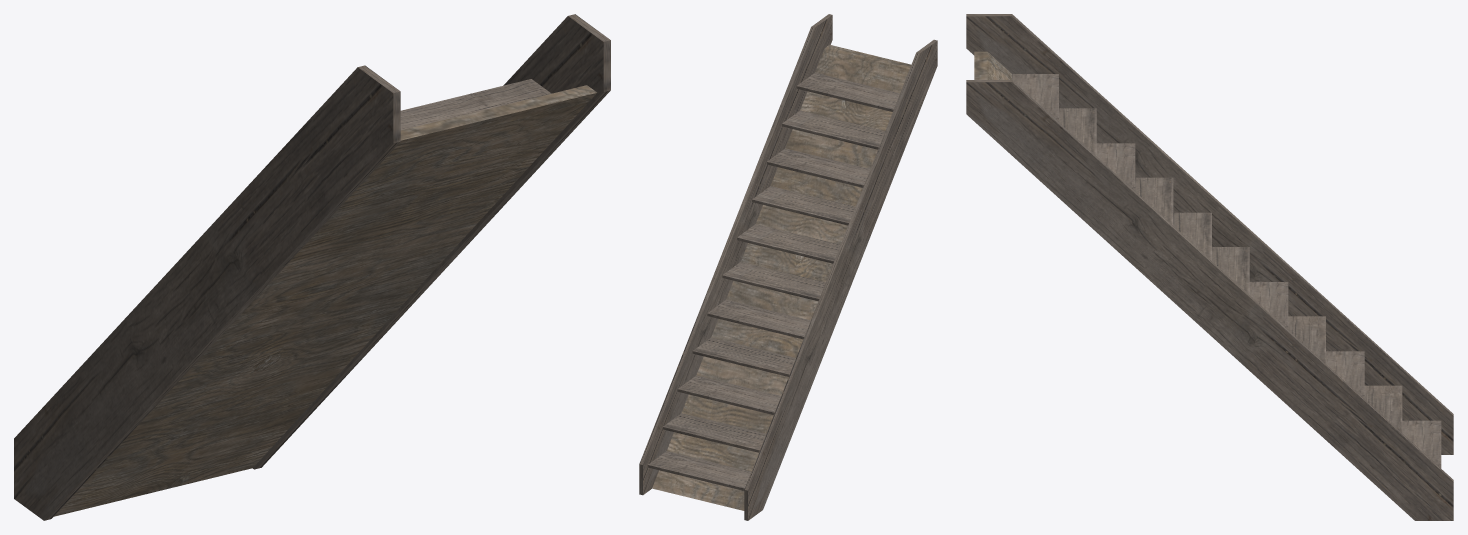
The model's file is woodstair02a.fbx.
3 renders of one model, left to right at view 1: azimuth 30°, elevation 25°; view 2: azimuth 150°, elevation 25°; view 3: azimuth 270°, elevation 25°, orthographic. The views are drawn at different scales.
Parts seen in each view (by area): view 1: woodstair02a; view 2: woodstair02a; view 3: woodstair02a.
Boxes of the visible parts, x1,y1,x2,y2 form: woodstair02a: [14, 14, 610, 520]; woodstair02a: [639, 14, 937, 520]; woodstair02a: [966, 14, 1453, 520].
Bounding box in the file's own units: 110 × 329 × 331.
